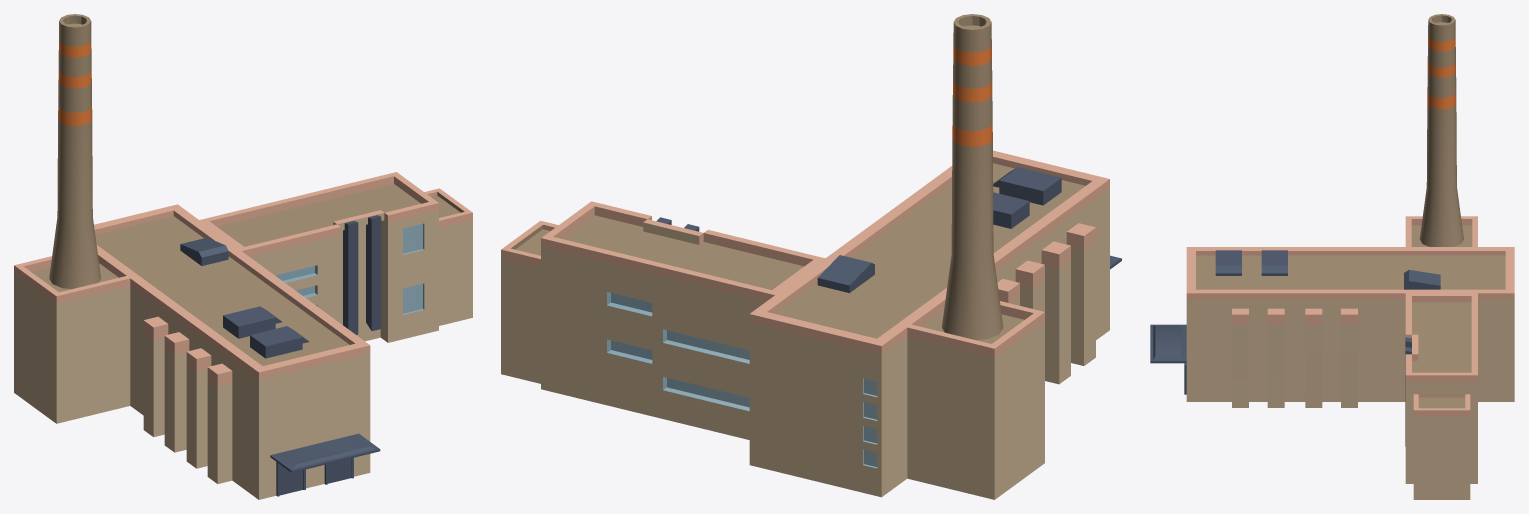
Rendered from infrastructure-building-power-plant.fbx.
3 renders of one model, left to right at view 1: azimuth 30°, elevation 25°; view 2: azimuth 150°, elevation 25°; view 3: azimuth 270°, elevation 25°, orthographic. The views are drawn at different scales.
Visible parts, largest first — view 1: infrastructure-building-power-plant; view 2: infrastructure-building-power-plant; view 3: infrastructure-building-power-plant.
Boxes of the visible parts, x1,y1,x2,y2 form: infrastructure-building-power-plant: (14,14,472,499); infrastructure-building-power-plant: (501,14,1121,499); infrastructure-building-power-plant: (1150,14,1514,499).
Size of the model in its own units: 3190 by 2736 by 2809.
1 material, 1 textured.
